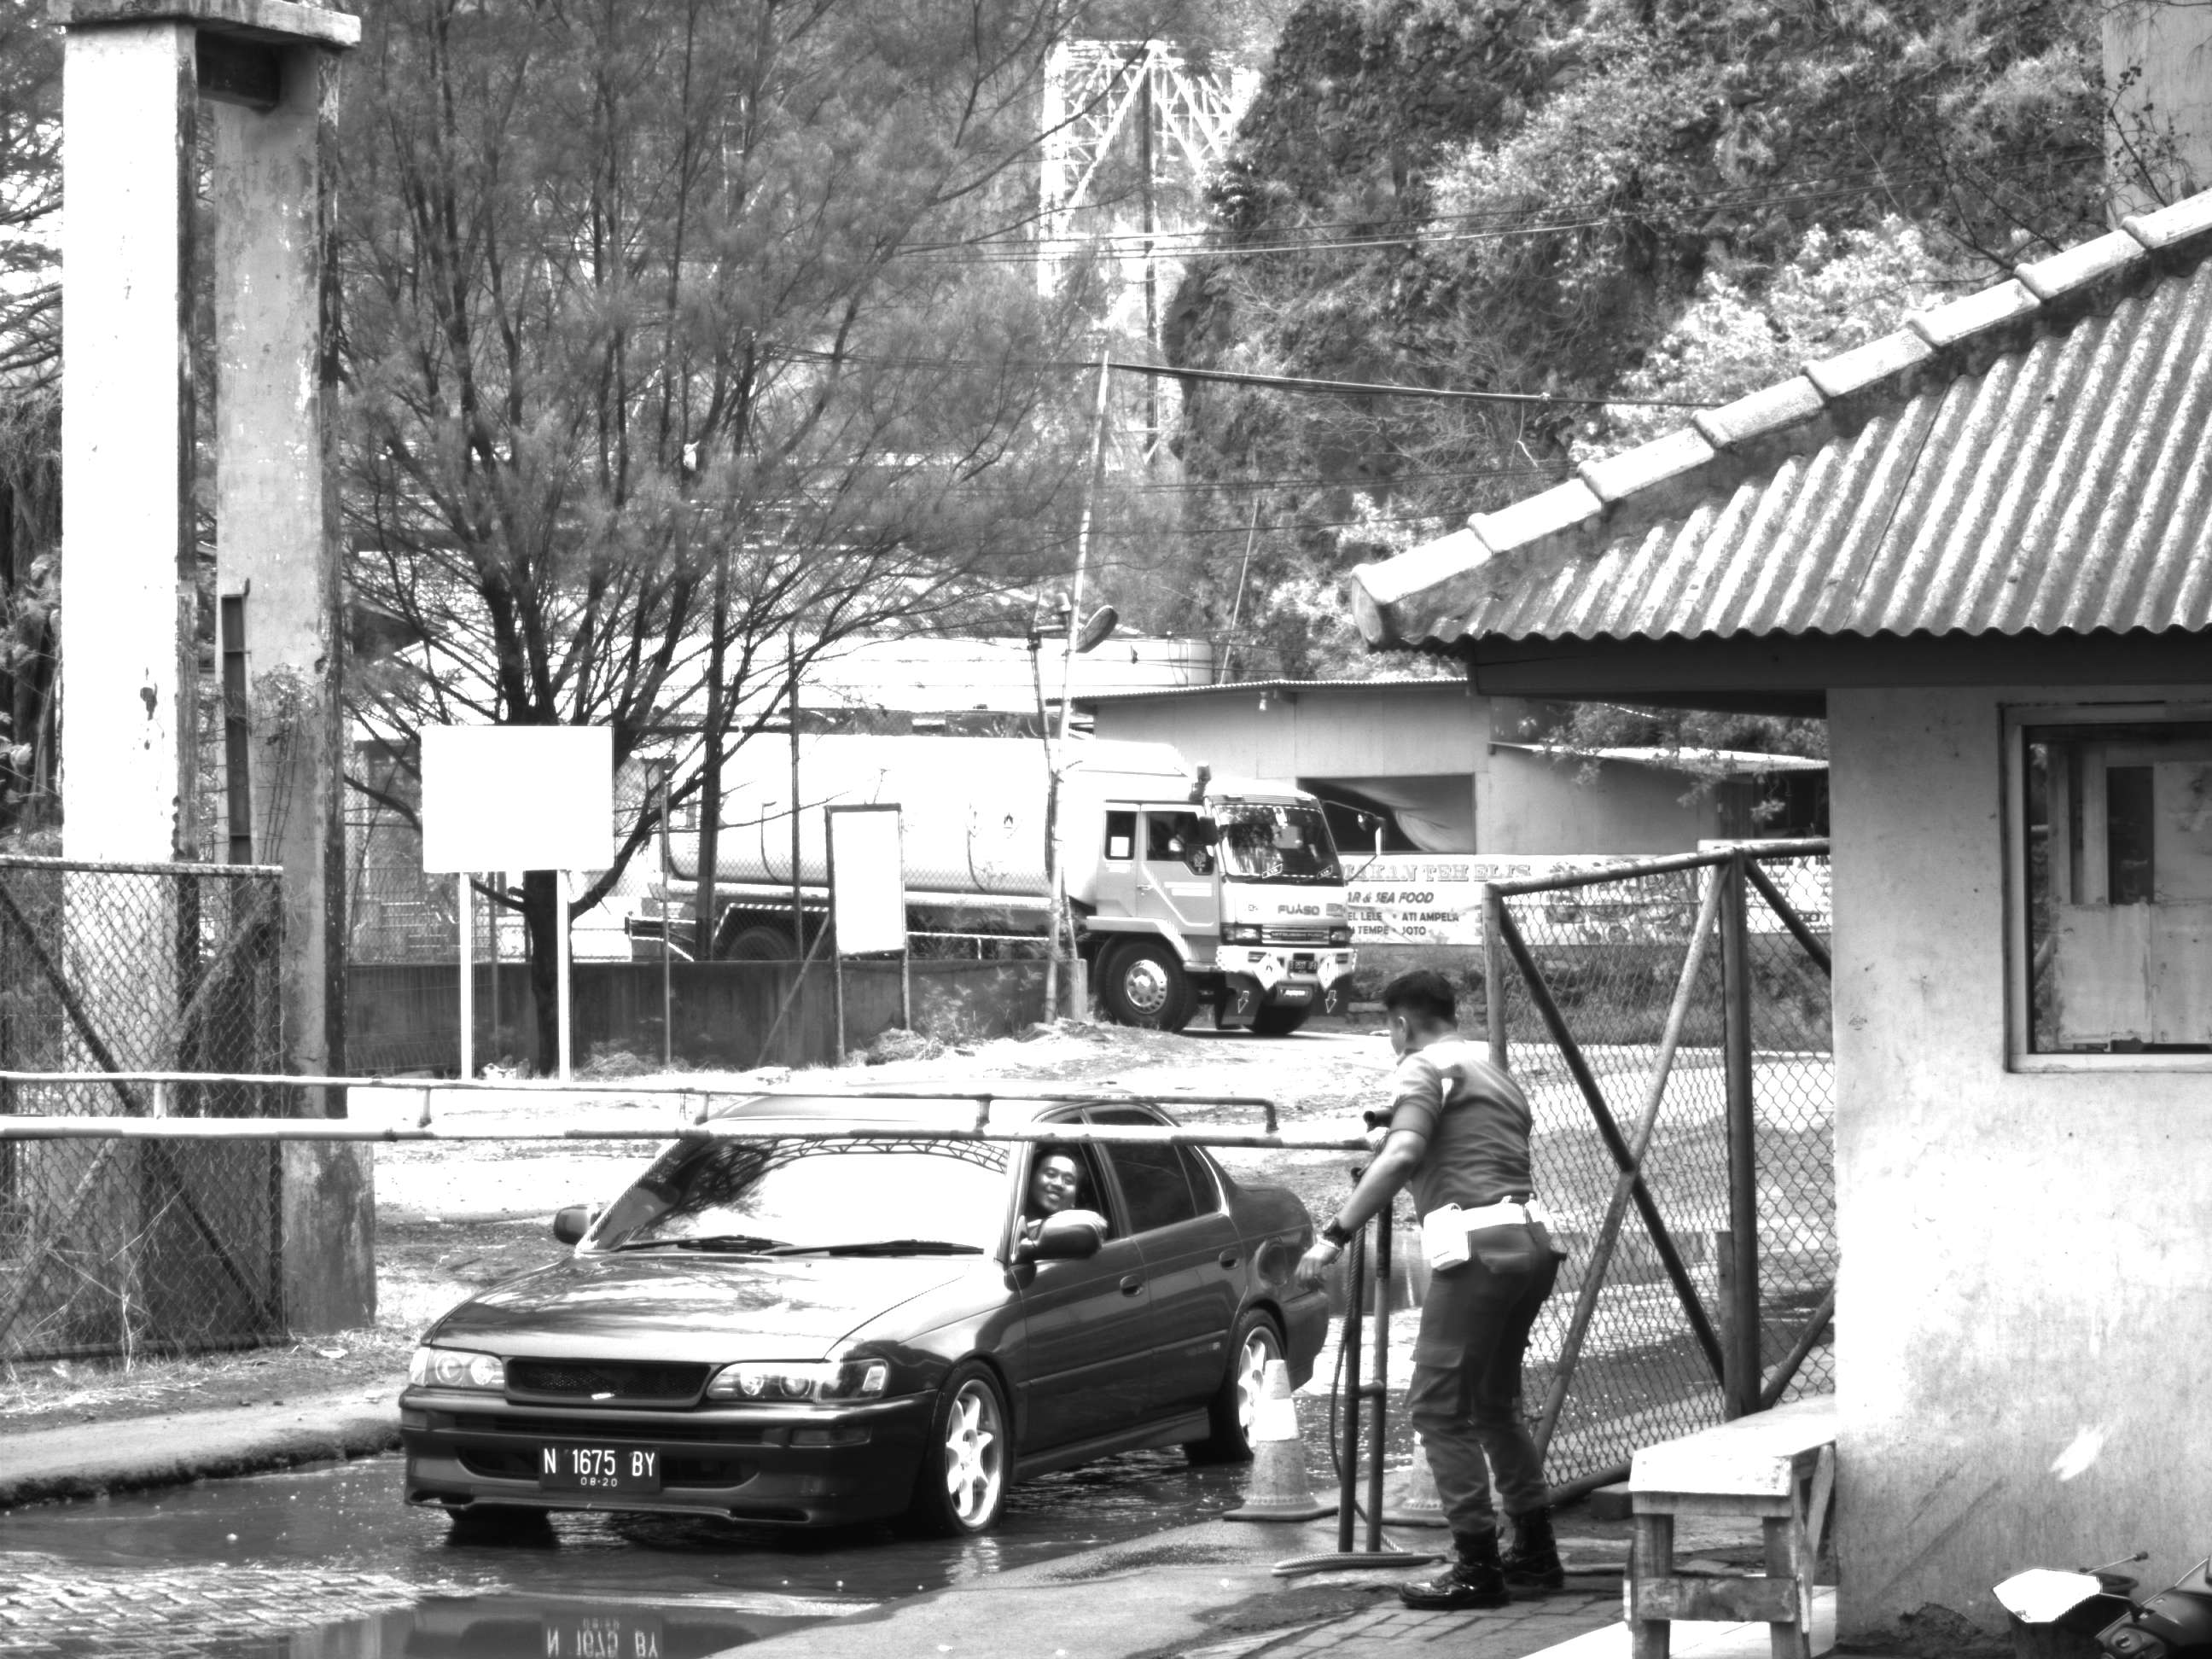day_small_front: (377, 1093, 1068, 1538)
plate: (533, 1441, 663, 1505)
